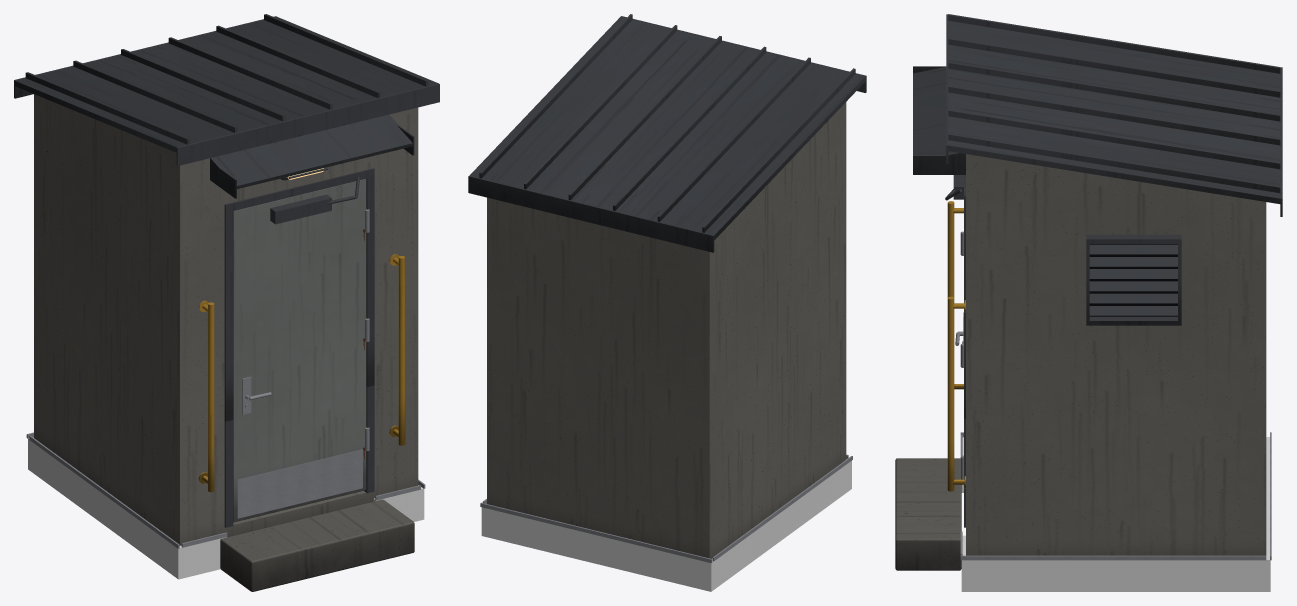
The model's file is roof_hatch_box.glb.
3 views of the same model, side by side, from view 1: azimuth 30°, elevation 25°; view 2: azimuth 150°, elevation 25°; view 3: azimuth 270°, elevation 25° (orthographic). The views are drawn at different scales.
Parts seen in each view (by area): view 1: walls_concrete_weathered_0, door_powder_coat_grey_0, roof_powder_coat_graphite_wet_0, step_concrete_weathered_wet_0, roof_powder_coat_graphite_wet_1, roof_powder_coat_graphite_3, walls_powder_coat_graphite_3, walls_rubber_1, roof_powder_coat_graphite_2, door_steel_brushed_1, grab_r_paint_safety_ochre_0, grab_l_paint_safety_ochre_0 (+2 smaller); view 2: walls_concrete_weathered_0, roof_powder_coat_graphite_wet_0, walls_rubber_1, roof_powder_coat_graphite_wet_1, roof_powder_coat_graphite_2, walls_steel_brushed_2; view 3: walls_concrete_weathered_0, roof_powder_coat_graphite_wet_0, roof_powder_coat_graphite_wet_1, walls_rubber_1, vent_powder_coat_graphite_0, step_concrete_weathered_wet_0, roof_powder_coat_graphite_3, walls_steel_brushed_2, grab_r_paint_safety_ochre_0, vent_cavity_dark_1, roof_powder_coat_graphite_2, grab_l_paint_safety_ochre_0 (+1 smaller).
Boxes of the visible parts, x1,y1,x2,y2 form: walls_concrete_weathered_0: (34,94,418,545); door_powder_coat_grey_0: (233,179,366,522); roof_powder_coat_graphite_wet_0: (15,17,438,152); step_concrete_weathered_wet_0: (220,499,414,591); roof_powder_coat_graphite_wet_1: (25,14,428,144); roof_powder_coat_graphite_3: (210,114,414,198); walls_powder_coat_graphite_3: (224,168,374,527); walls_rubber_1: (28,437,424,579); roof_powder_coat_graphite_2: (14,16,439,165); door_steel_brushed_1: (237,376,362,518); grab_r_paint_safety_ochre_0: (389,254,405,445); grab_l_paint_safety_ochre_0: (198,300,214,492); walls_concrete_weathered_0: (487,102,846,558); roof_powder_coat_graphite_wet_0: (470,16,865,239); walls_rubber_1: (481,459,851,591); roof_powder_coat_graphite_wet_1: (479,14,855,232); roof_powder_coat_graphite_2: (468,16,866,252); walls_steel_brushed_2: (480,454,852,563); walls_concrete_weathered_0: (966,154,1266,555); roof_powder_coat_graphite_wet_0: (948,21,1280,203); roof_powder_coat_graphite_wet_1: (948,14,1280,193); walls_rubber_1: (961,437,1270,591); vent_powder_coat_graphite_0: (1086,234,1181,325); step_concrete_weathered_wet_0: (895,458,961,570); roof_powder_coat_graphite_3: (913,66,965,174); walls_steel_brushed_2: (960,432,1271,560); grab_r_paint_safety_ochre_0: (947,296,965,491); vent_cavity_dark_1: (1089,244,1177,316); roof_powder_coat_graphite_2: (946,14,1282,216); grab_l_paint_safety_ochre_0: (947,201,963,389).
Size of what is drawn, in the model's own units: 1.76 by 2.85 by 2.19.
15 materials, 11 textured.
